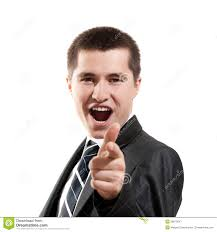hand: (86, 119, 137, 199)
